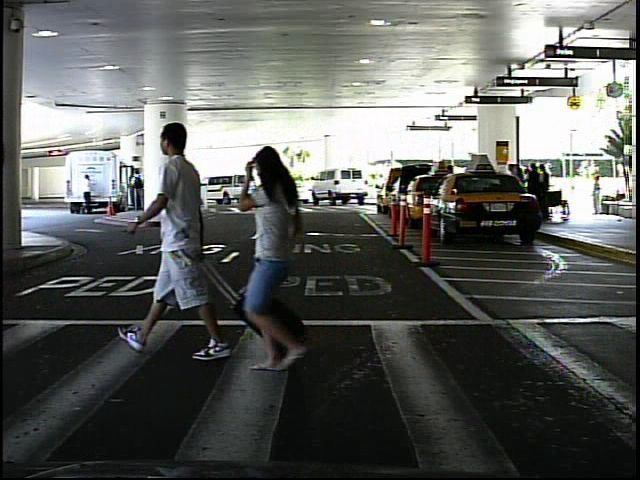person: (133, 100, 235, 365), (243, 133, 341, 379), (78, 171, 97, 221), (588, 172, 607, 218)
